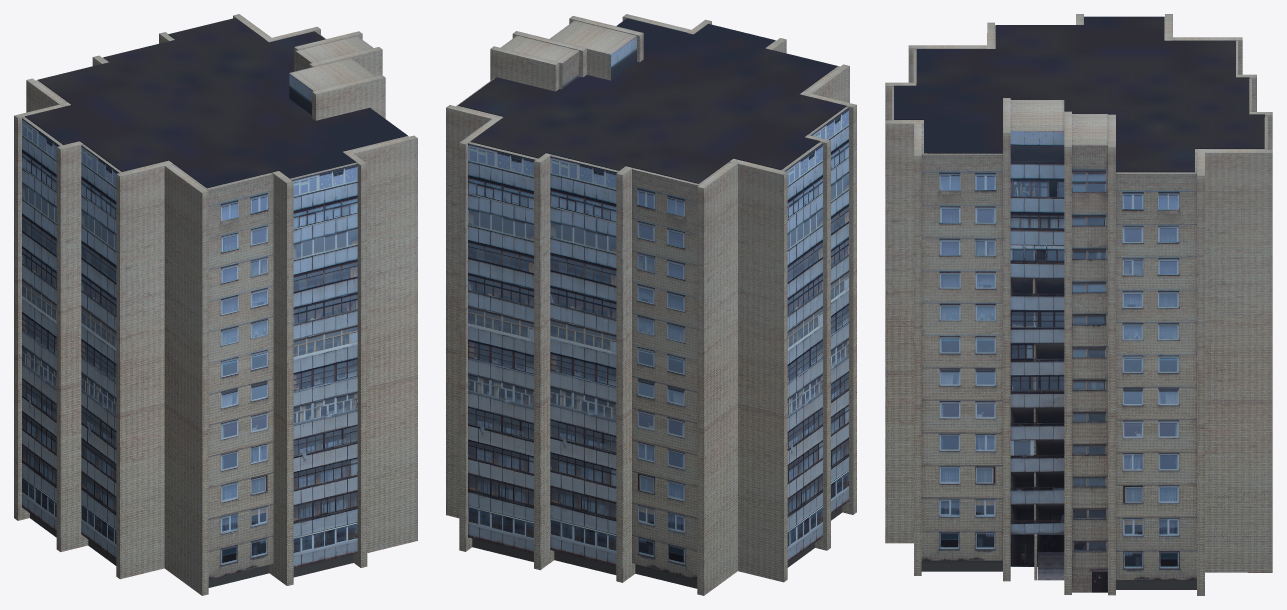
Rendered from 12_auk_zir.FBX.
The picture shows the model from 3 angles, left to right: view 1: azimuth 30°, elevation 25°; view 2: azimuth 150°, elevation 25°; view 3: azimuth 270°, elevation 25°; orthographic projection. The views are drawn at different scales.
Parts seen in each view (by area): view 1: Box008; view 2: Box008; view 3: Box008.
Boxes of the visible parts, left/top/right/bottom form: Box008: left=14, top=14, right=417, bottom=595; Box008: left=446, top=14, right=856, bottom=595; Box008: left=885, top=14, right=1272, bottom=595.
Size of the model in its own units: 2580 by 3325 by 2605.
